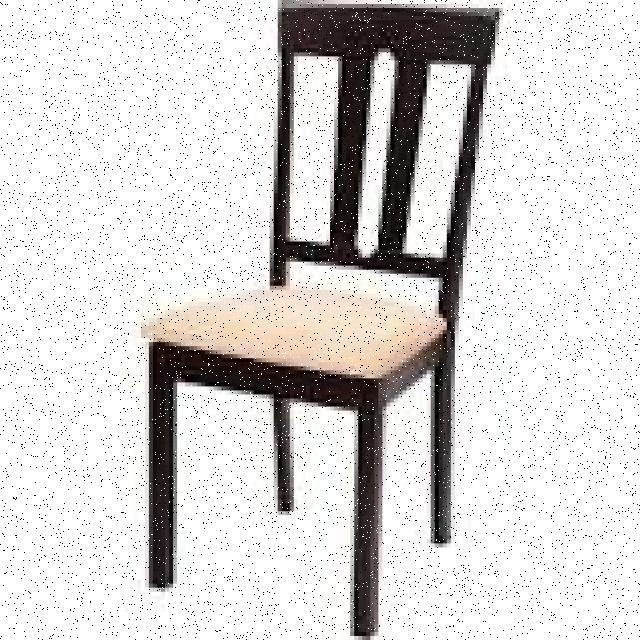bottle: (134, 0, 507, 640)
